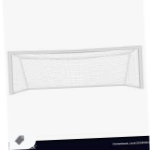goals: (7, 44, 146, 96)
